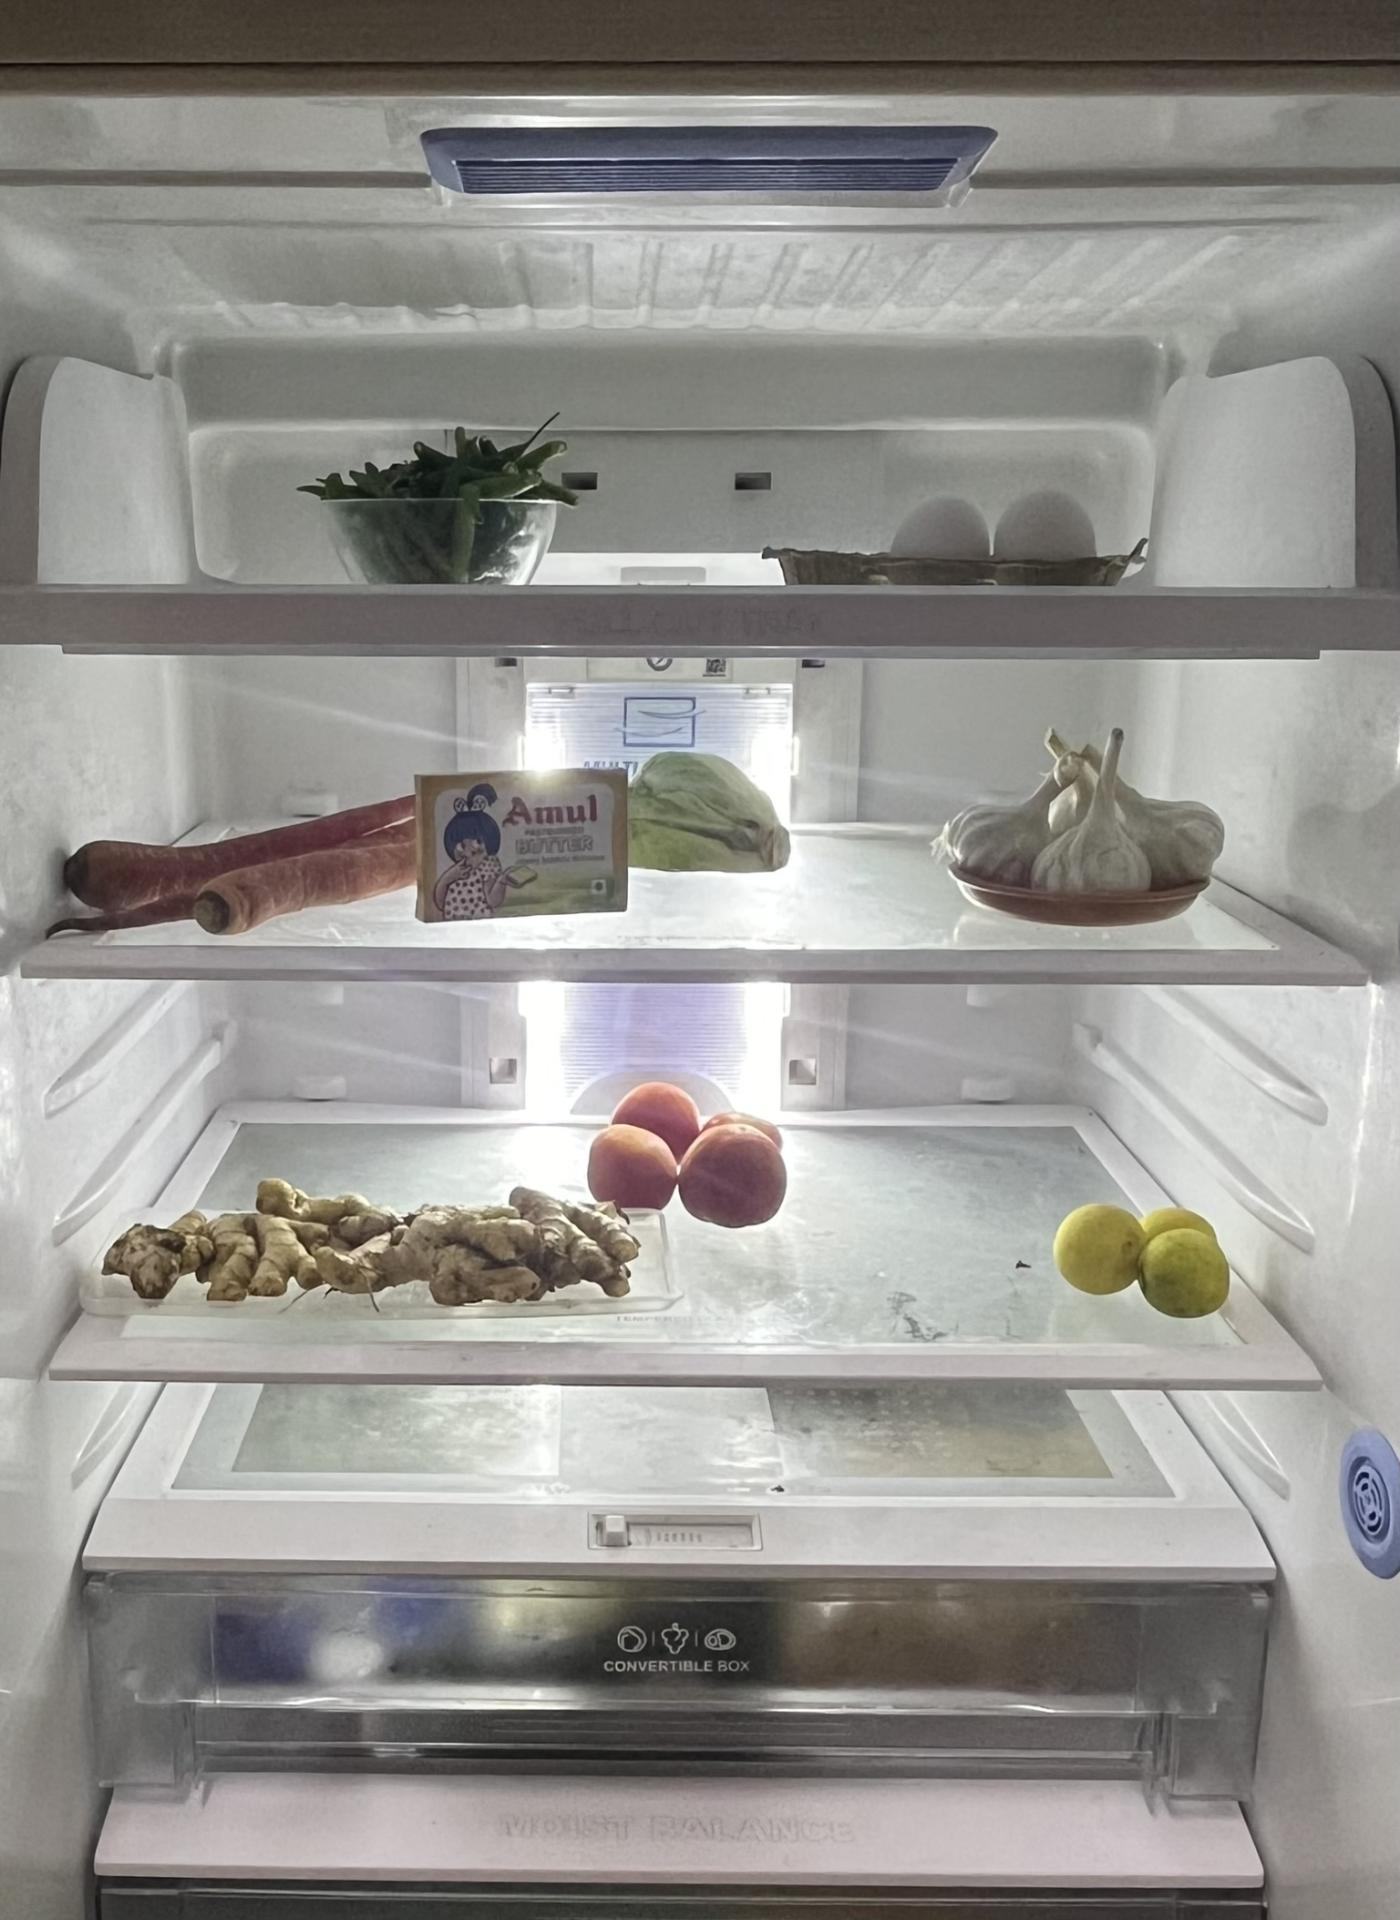butter: (414, 753, 629, 917)
cabbage: (628, 754, 790, 874)
carrots: (51, 784, 437, 930)
chillies: (310, 411, 590, 571)
egg: (899, 487, 1100, 556)
garlic: (954, 726, 1220, 903)
ginger: (109, 1169, 629, 1306)
lemon: (1053, 1191, 1236, 1327)
tomato: (587, 1069, 790, 1213)
